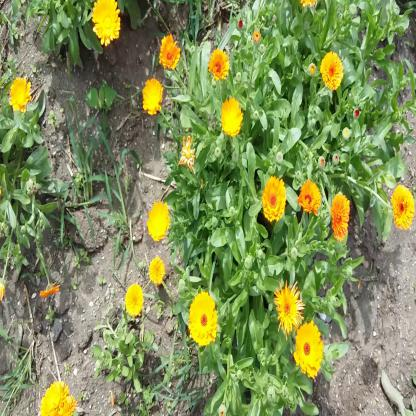marigold: (294, 323, 322, 374), (190, 294, 218, 344), (274, 283, 302, 331), (262, 174, 287, 220), (90, 1, 118, 42), (41, 381, 74, 412), (392, 186, 414, 230), (330, 193, 350, 238), (147, 202, 170, 241), (321, 52, 344, 89), (222, 97, 243, 133), (301, 178, 321, 215), (142, 77, 163, 112), (209, 48, 230, 81), (9, 76, 29, 110), (160, 36, 180, 68), (125, 284, 144, 317), (150, 258, 164, 287)
